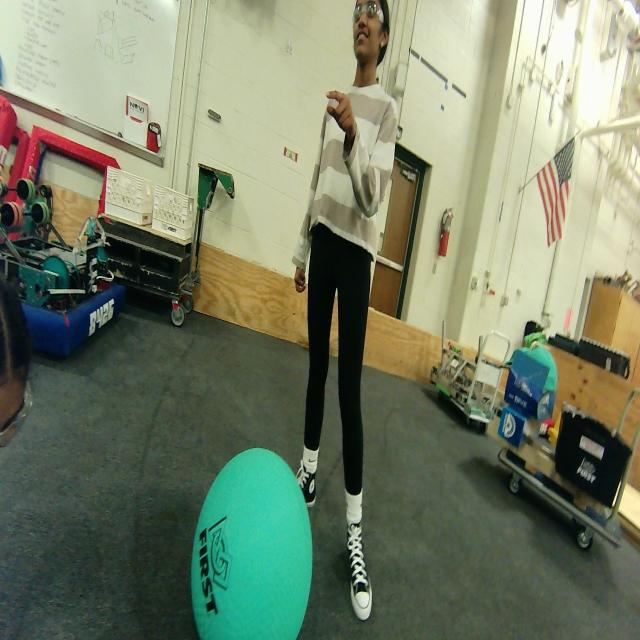algae: (190, 448, 312, 640)
